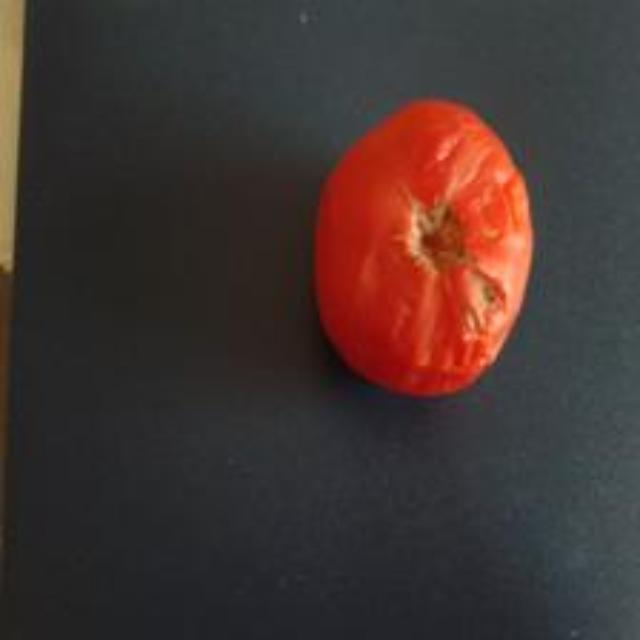defect: (310, 88, 545, 404)
